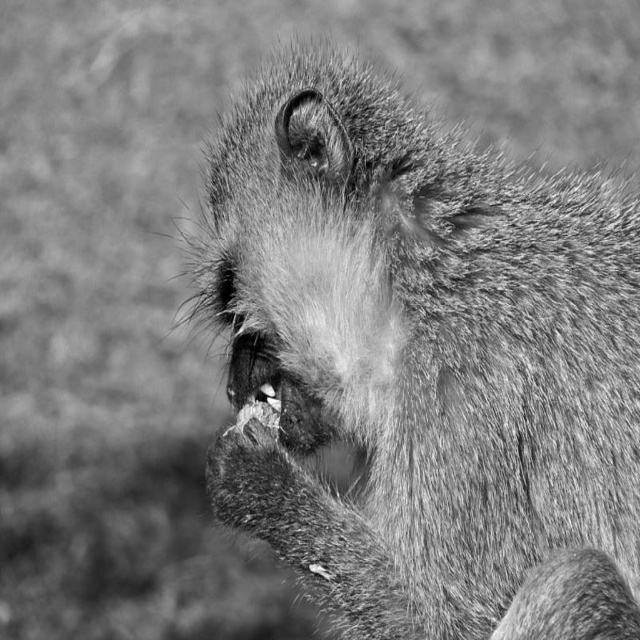Monkey: (151, 37, 639, 639)
